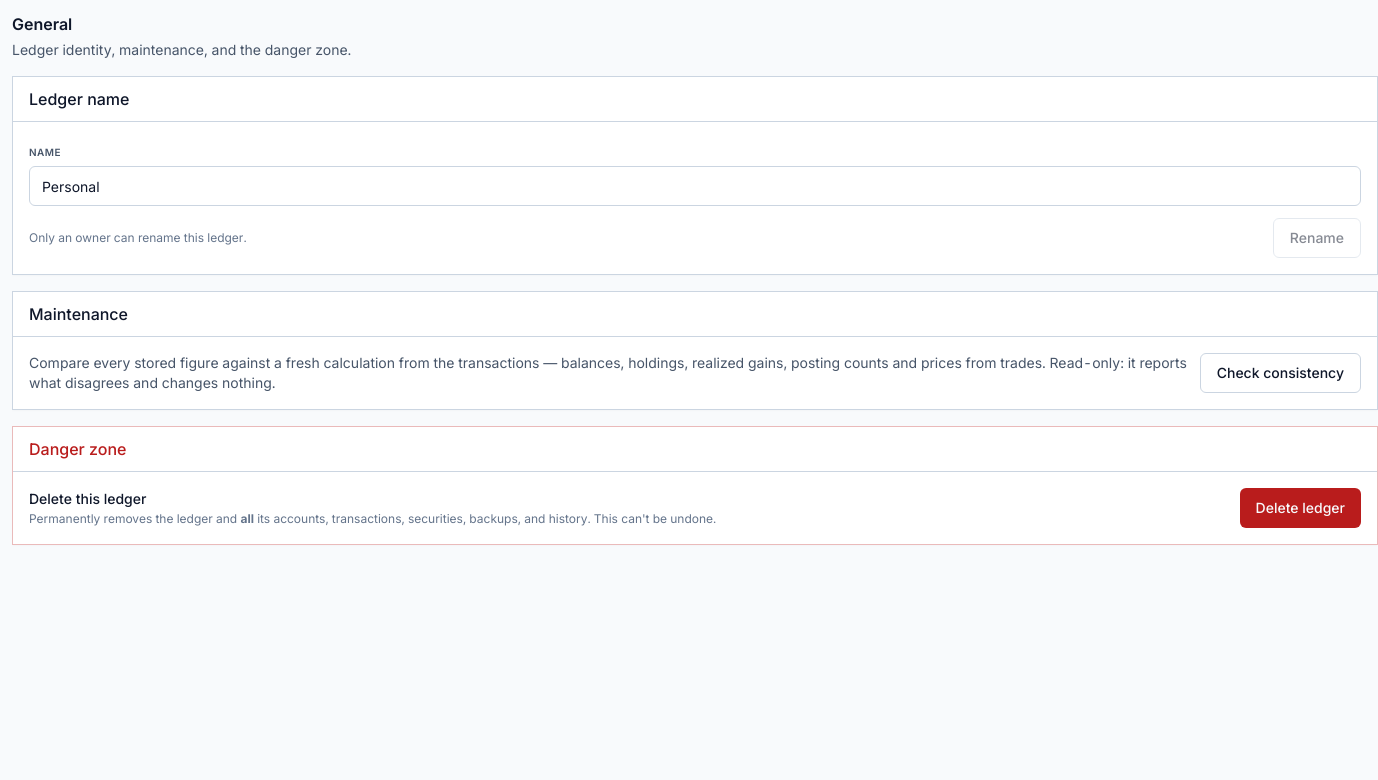
Test: GeneralPanel — consistency maintenance › lists oversold positions as findings with a link to fix them and no repair
The image size is (1378, 780).
Click the button "Check consistency".
click(1280, 373)  # box [1200, 353, 1361, 393]
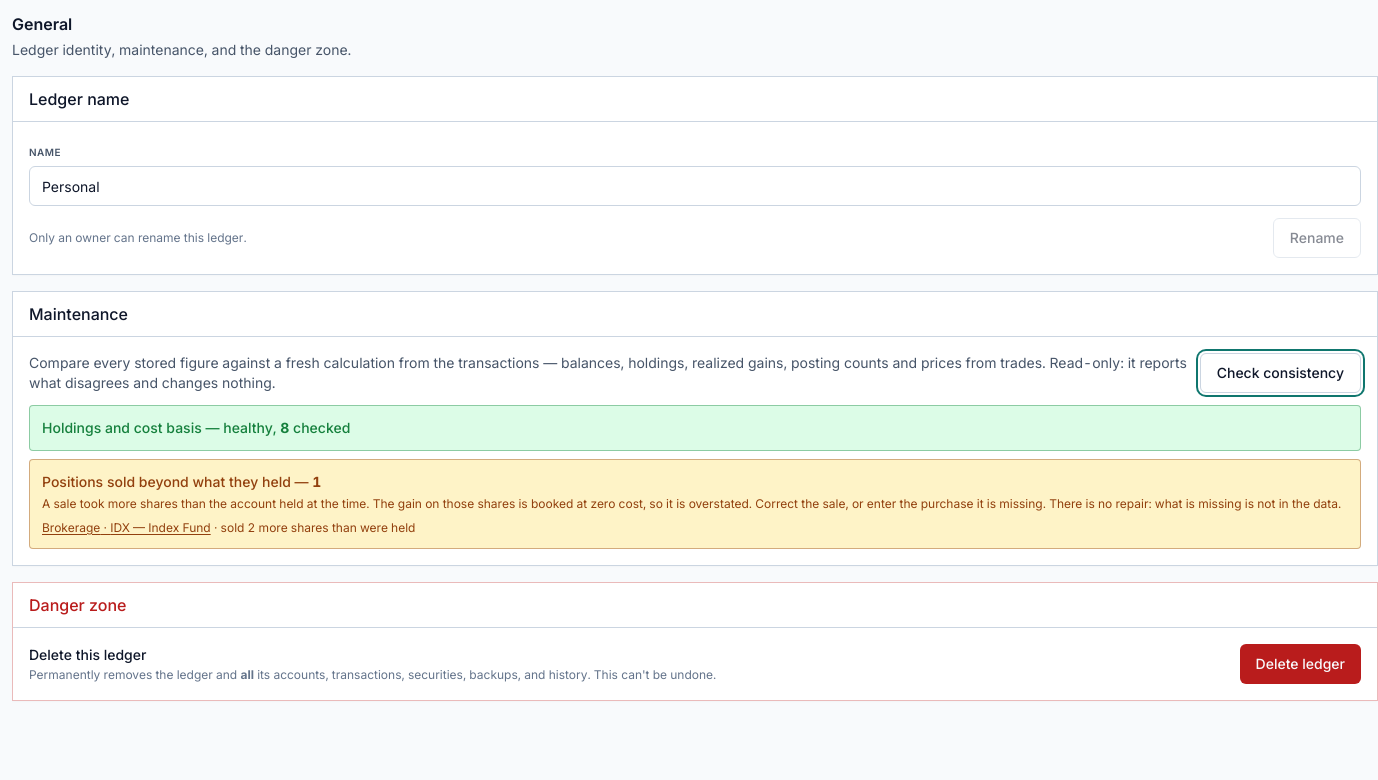
Expected: the list item is shown, [42, 520, 416, 535]
Expected: the text "Correct the sale, or enter the purchase it is missing" is shown, [42, 496, 1341, 511]
